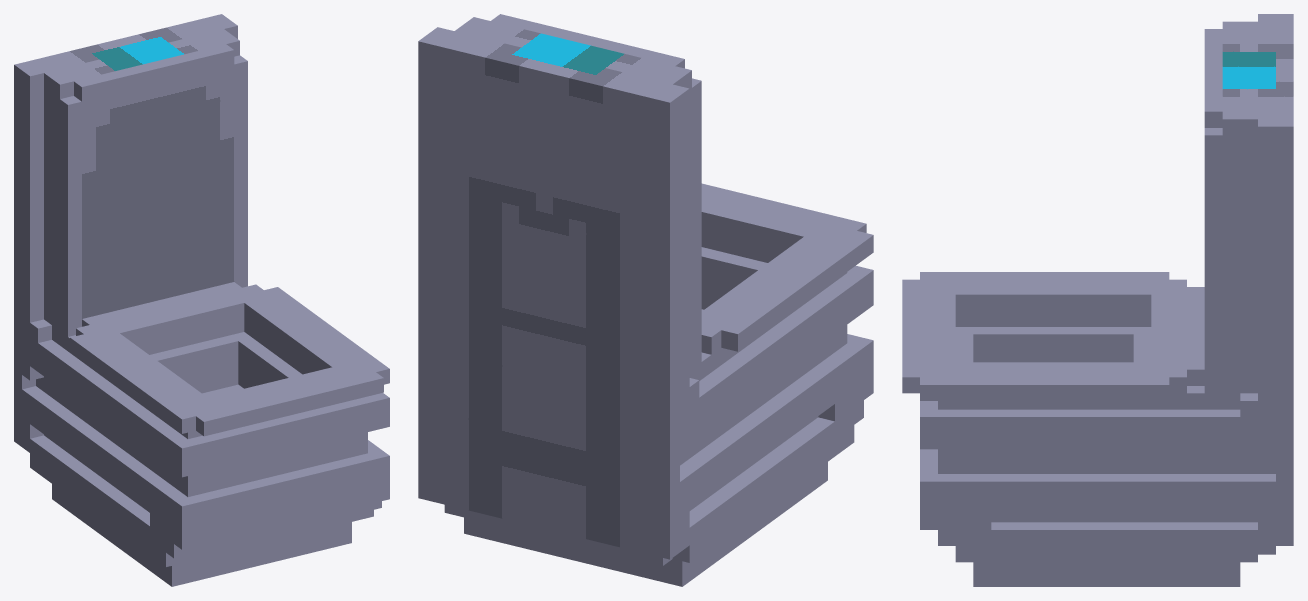
The model's file is kibelek.dae.
3 views of the same model, side by side, from view 1: azimuth 30°, elevation 25°; view 2: azimuth 150°, elevation 25°; view 3: azimuth 270°, elevation 25° (orthographic). The views are drawn at different scales.
Parts seen in each view (by area): view 1: Content; view 2: Content; view 3: Content.
Part boxes in pixels (x1,y1,x2,y2): Content: (14, 14, 389, 586); Content: (418, 14, 873, 586); Content: (902, 14, 1293, 586).
Bounding box in the file's own units: 15 × 29 × 22.
1 material, 1 textured.
